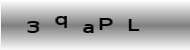3: (25, 20, 40, 34)
L: (126, 18, 141, 32)
P: (98, 17, 113, 31)
a: (82, 23, 95, 34)
q: (53, 14, 69, 29)
